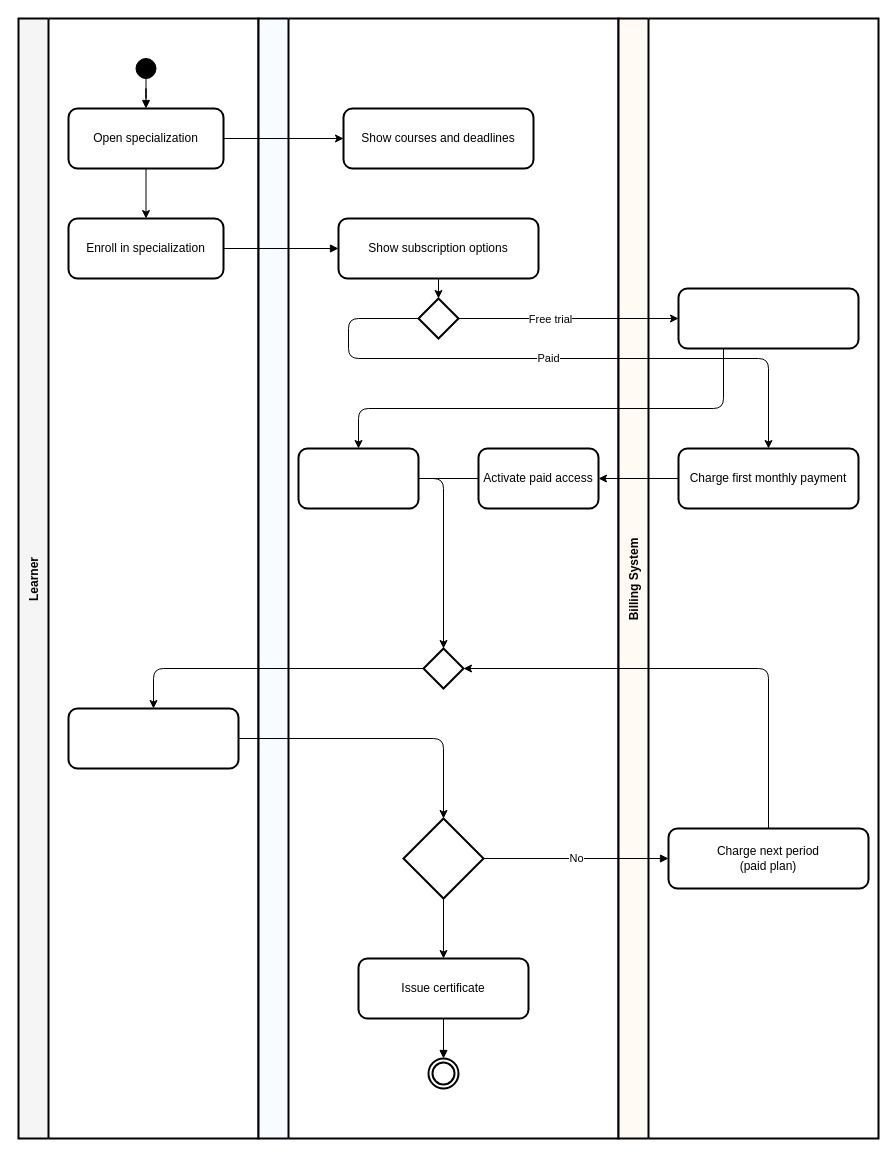
Some shapes in this 896 by 1156 pixel diagram are drawn without their labels. Here are the shapes that lost their labels. From the top down, the box of each, then its label:
(677, 287, 859, 349): Authorize payment method
(297, 447, 419, 509): Activate free trial access
(257, 17, 619, 1139): Coursera Platform
(67, 707, 239, 769): Pass specialization courses
(402, 817, 484, 899): All courses completed?
